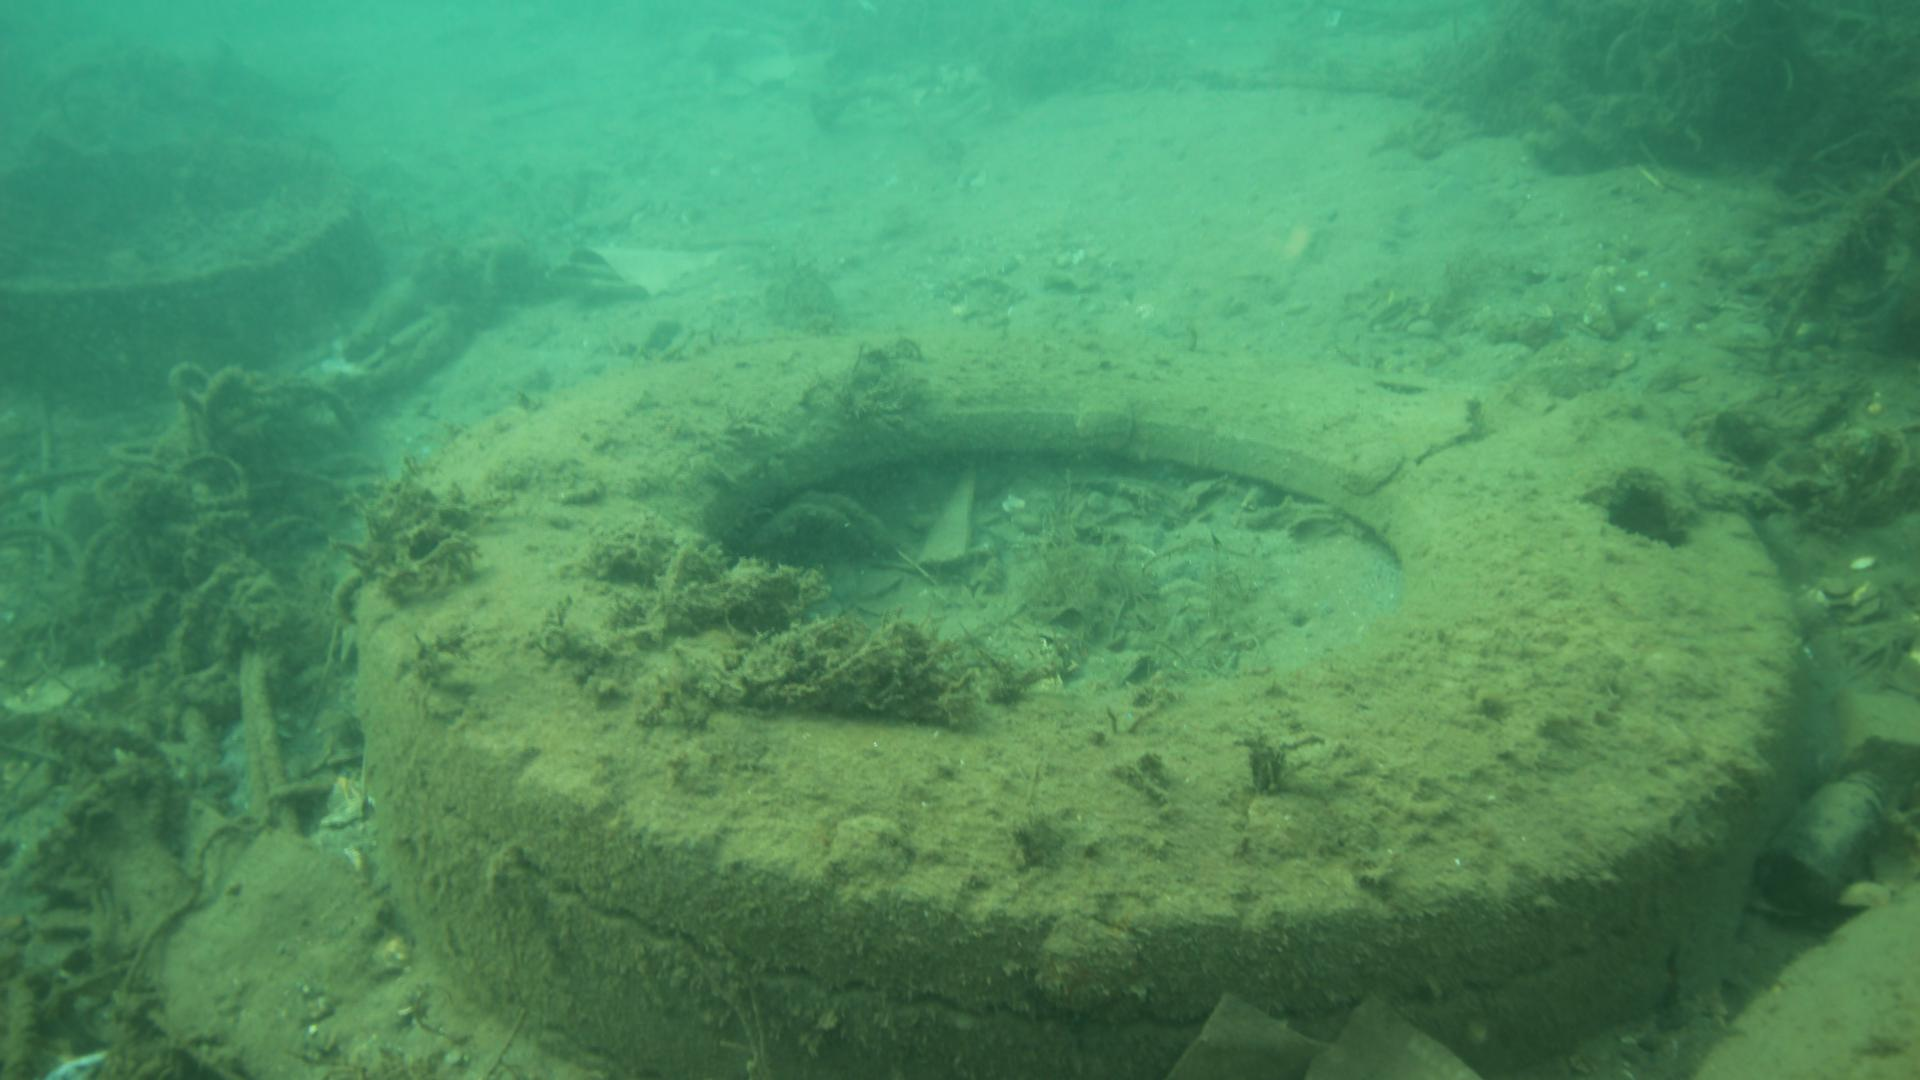tire: (357, 328, 1803, 1080)
